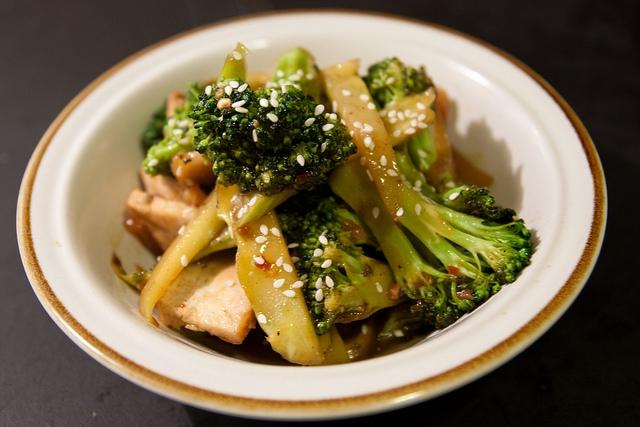broccoli: (326, 156, 534, 330), (188, 78, 357, 227), (305, 232, 411, 336), (142, 84, 205, 176), (360, 57, 410, 108), (379, 300, 435, 341), (142, 104, 167, 158)
